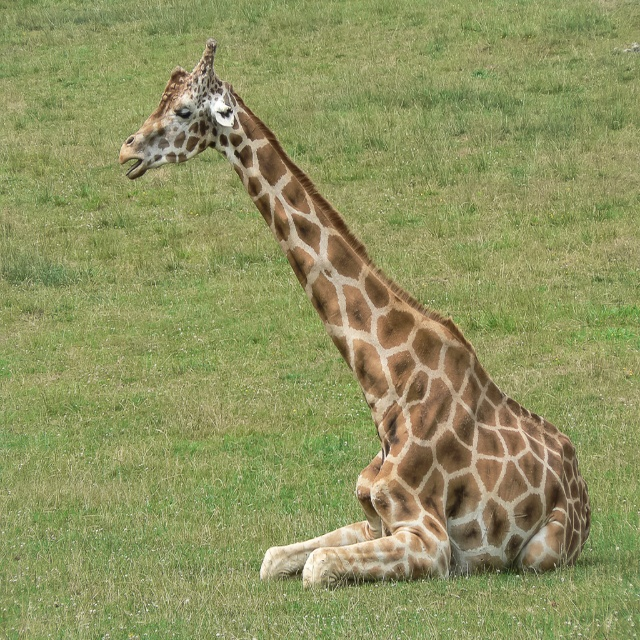Giraffe: (121, 41, 594, 592)
